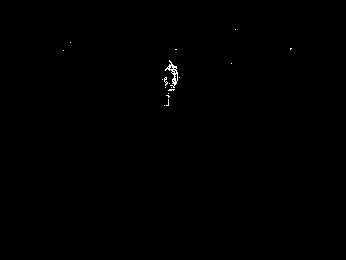person: (160, 59, 181, 106)
